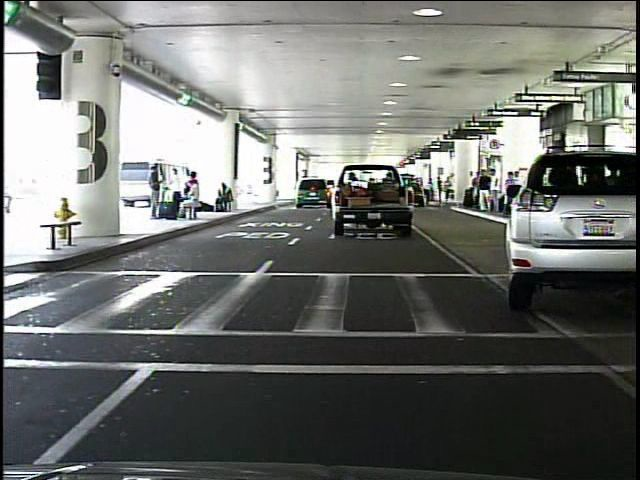person: (145, 164, 166, 222), (476, 167, 494, 215), (434, 174, 445, 205)
